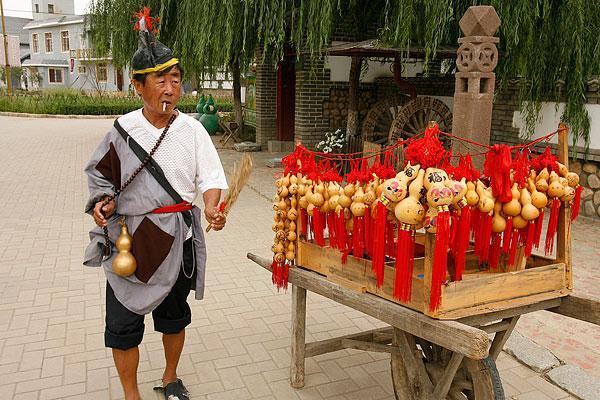smoke: (162, 101, 166, 112)
